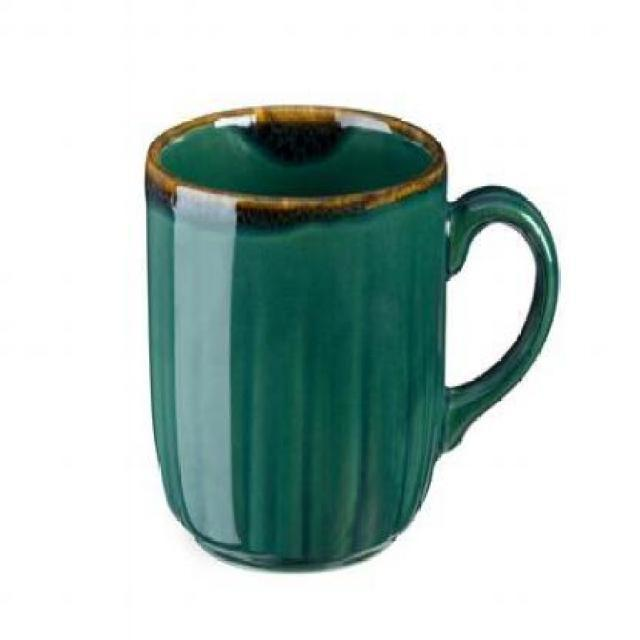taza: (145, 104, 560, 577)
